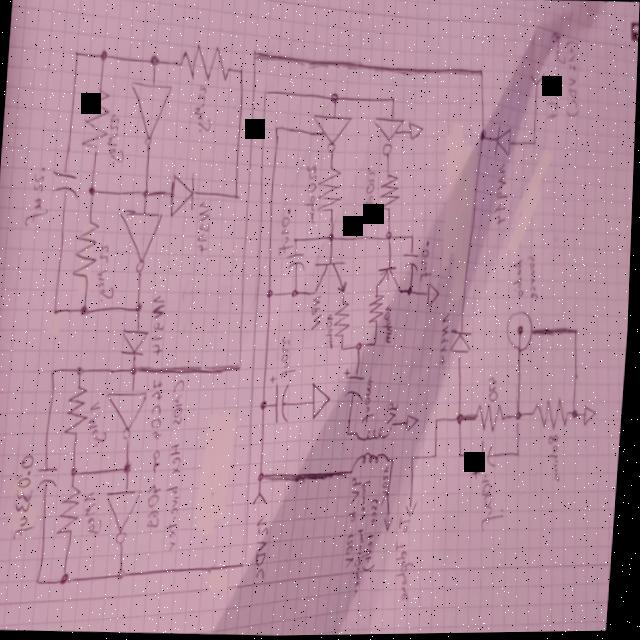capacitor: (267, 373, 294, 426), (473, 439, 500, 482), (49, 166, 81, 201), (342, 367, 367, 408), (38, 462, 62, 493), (286, 249, 306, 272), (401, 251, 421, 273)
diode: (168, 170, 198, 217), (120, 326, 150, 356), (449, 328, 473, 358), (493, 125, 513, 160)
ground: (311, 381, 333, 422), (405, 120, 425, 143), (583, 403, 600, 429), (426, 282, 442, 309), (406, 413, 421, 434)
junction: (62, 568, 76, 586), (147, 53, 160, 69), (118, 567, 131, 583), (124, 459, 135, 477), (79, 302, 92, 317), (327, 91, 339, 106), (97, 47, 108, 63), (514, 409, 525, 424), (129, 363, 139, 377), (87, 184, 97, 198), (384, 230, 394, 243), (457, 412, 466, 426), (259, 470, 268, 484), (572, 326, 581, 339), (478, 130, 487, 143), (72, 464, 80, 478), (572, 407, 580, 421), (243, 555, 251, 569), (236, 359, 244, 373), (266, 288, 275, 300), (261, 398, 269, 411), (388, 94, 396, 106), (292, 287, 300, 299), (77, 363, 85, 375), (135, 302, 143, 314), (406, 287, 415, 297), (328, 232, 336, 243), (141, 188, 149, 199), (52, 305, 60, 316), (36, 575, 44, 585), (357, 342, 364, 352), (515, 450, 522, 460), (72, 48, 79, 58), (292, 236, 299, 245), (233, 191, 239, 201), (477, 67, 483, 77), (250, 49, 256, 59), (411, 454, 417, 463), (51, 367, 57, 375), (391, 456, 397, 464), (347, 429, 353, 437), (409, 233, 415, 241), (434, 452, 440, 460), (530, 139, 536, 147), (237, 67, 243, 75), (262, 88, 268, 96), (459, 451, 464, 460), (373, 340, 378, 348), (436, 416, 441, 424), (274, 124, 279, 132), (342, 345, 346, 353)
resistor: (174, 41, 233, 85), (79, 86, 110, 155), (72, 217, 100, 283), (59, 480, 85, 539), (316, 163, 344, 217), (65, 382, 91, 440), (531, 395, 571, 432), (376, 170, 402, 216), (474, 402, 509, 433), (332, 300, 353, 340), (367, 293, 386, 329)
terminal: (503, 310, 537, 355), (254, 491, 271, 508), (528, 72, 543, 90), (406, 500, 421, 518), (385, 512, 396, 534)
text: (163, 378, 190, 552), (144, 377, 171, 531), (14, 452, 42, 545), (353, 478, 373, 599), (394, 515, 420, 604), (558, 40, 584, 119), (544, 30, 566, 123), (23, 164, 52, 230), (479, 473, 510, 534), (346, 478, 363, 578), (364, 496, 384, 574), (104, 110, 129, 169), (95, 240, 118, 304), (148, 292, 169, 358), (301, 162, 322, 227), (86, 398, 111, 451), (191, 81, 214, 135), (255, 514, 273, 580), (82, 489, 107, 536), (493, 163, 511, 227), (546, 433, 566, 486), (194, 199, 213, 254), (362, 166, 379, 221), (277, 208, 294, 260), (280, 336, 299, 379), (524, 254, 541, 301), (439, 311, 453, 366), (418, 238, 435, 283), (364, 375, 379, 424), (511, 259, 527, 298), (381, 304, 396, 344), (310, 294, 324, 331), (325, 310, 337, 351), (488, 376, 501, 404), (382, 465, 392, 501), (387, 401, 401, 423)
transformer: (352, 420, 394, 476)
transistor: (310, 258, 350, 297), (376, 264, 402, 292)
